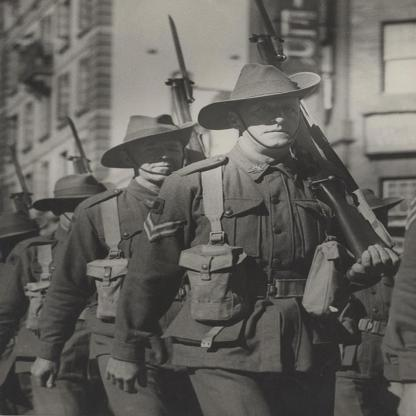face: (246, 92, 301, 147), (136, 136, 184, 180)
